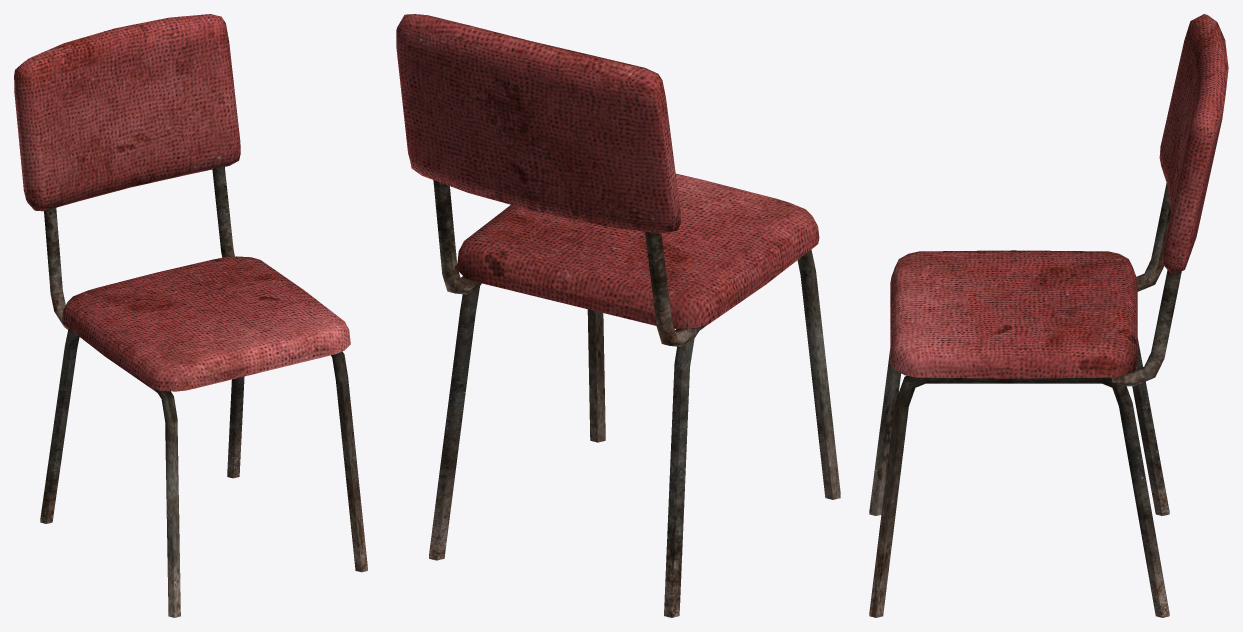
Rendered from chair05.FBX.
3 renders of one model, left to right at view 1: azimuth 30°, elevation 25°; view 2: azimuth 150°, elevation 25°; view 3: azimuth 270°, elevation 25°, orthographic. The views are drawn at different scales.
Visible parts, largest first — view 1: SM_Chair05; view 2: SM_Chair05; view 3: SM_Chair05.
Part boxes in pixels (left/top/right/bottom): SM_Chair05: left=14, top=14, right=367, bottom=617; SM_Chair05: left=396, top=14, right=840, bottom=617; SM_Chair05: left=869, top=14, right=1228, bottom=617.
Size of the model in its own units: 48.31 by 98.43 by 63.6.
1 material, 1 textured.
